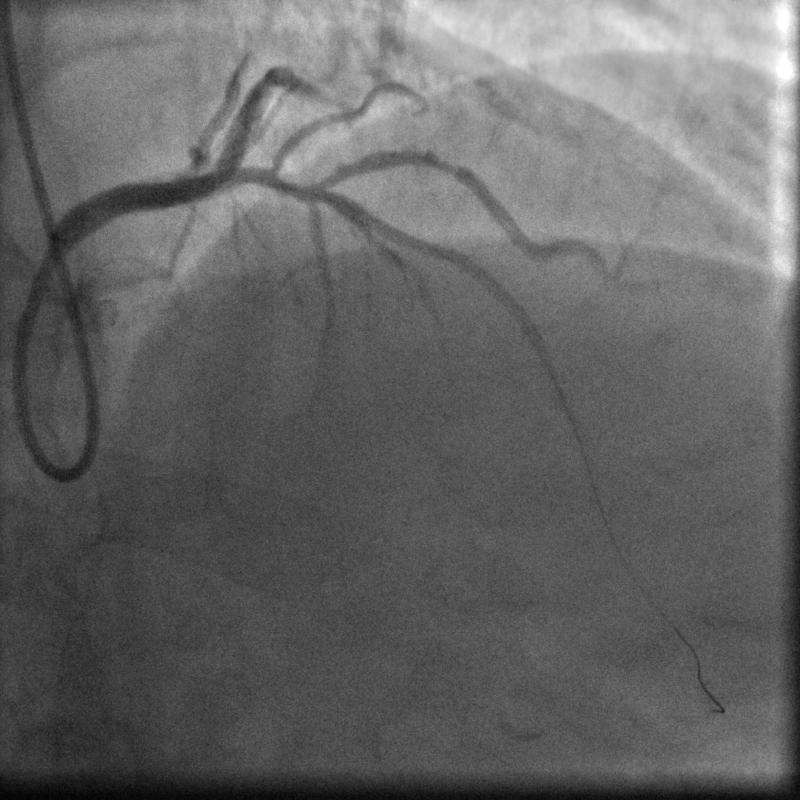Stenosis: (424, 145, 472, 186)
